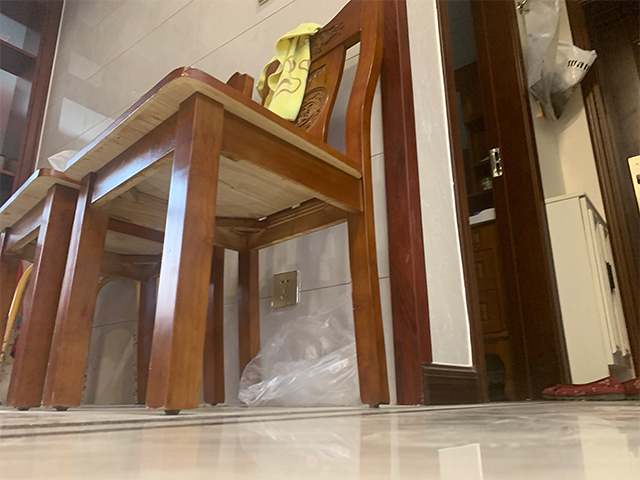cabinet: (546, 191, 637, 384)
stool: (42, 1, 391, 415)
